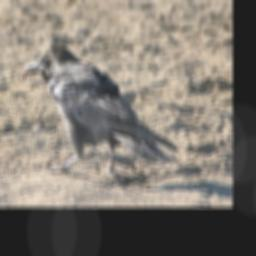Crow: (23, 43, 180, 184)
